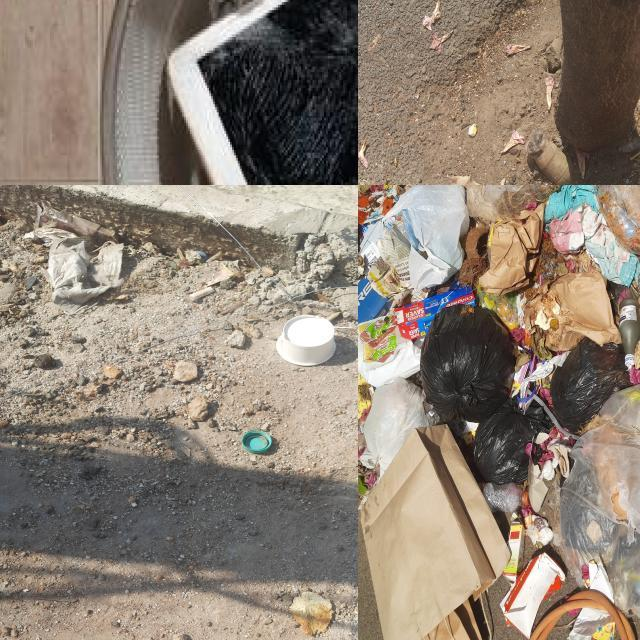Background: (0, 185, 358, 640), (358, 0, 640, 185)
Cig_bud: (188, 287, 215, 301)
Disposable: (619, 298, 640, 355)
E-Waste: (168, 0, 358, 185)
Garbage: (358, 185, 640, 640)
Nylog_sting: (527, 382, 580, 441)
Plastic: (241, 430, 272, 454)
Plastic_Bag: (561, 385, 640, 618), (420, 306, 515, 423), (387, 185, 468, 290), (550, 337, 631, 433), (363, 378, 432, 476), (474, 398, 552, 483), (474, 398, 546, 483), (48, 237, 124, 315), (467, 185, 563, 220), (595, 185, 640, 257), (606, 281, 628, 318), (531, 444, 543, 464)
Plastic_Straw: (530, 354, 536, 376), (522, 402, 526, 410), (527, 382, 530, 389), (525, 392, 527, 398)
Plastic_bottle: (525, 130, 571, 185), (619, 298, 640, 370), (480, 483, 530, 513)
Plastic_wraper: (38, 202, 114, 244)
top_view_waste: (102, 0, 358, 185), (168, 0, 358, 185)
